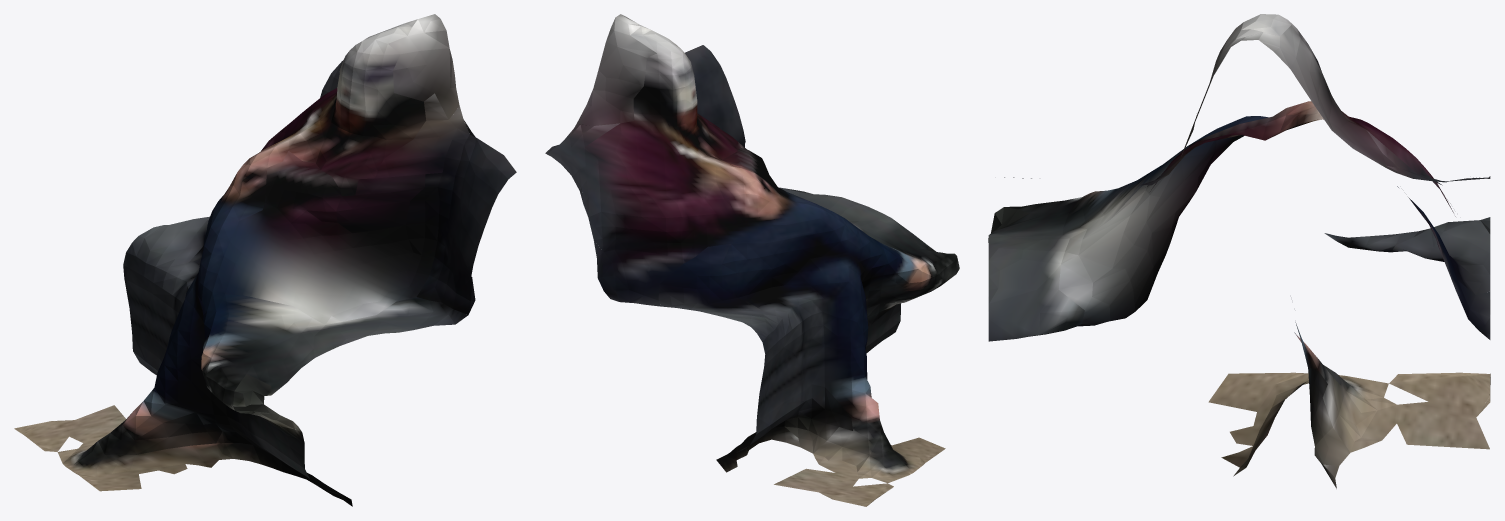
3 renders of one model, left to right at view 1: azimuth 30°, elevation 25°; view 2: azimuth 150°, elevation 25°; view 3: azimuth 270°, elevation 25°, orthographic. The views are drawn at different scales.
Size of the model in its own units: 0.9723 by 1.04 by 0.799.
Materials: 1 (1 with a texture image).
